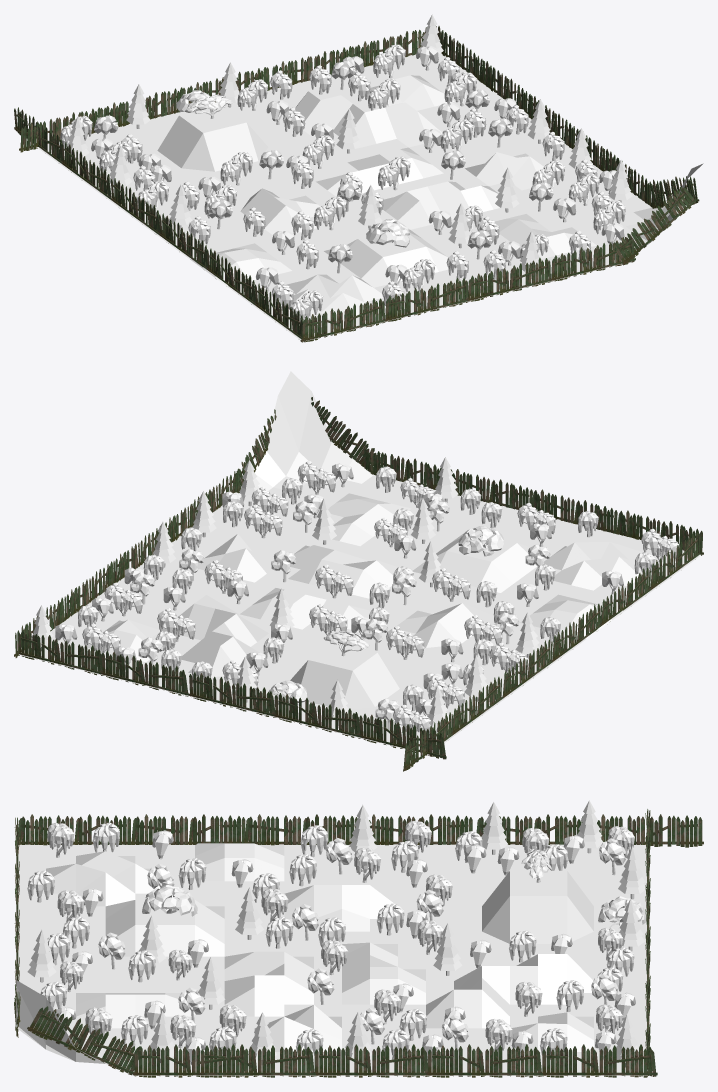
File: map.glb
3 renders of one model, top to bottom at view 1: azimuth 30°, elevation 25°; view 2: azimuth 150°, elevation 25°; view 3: azimuth 270°, elevation 25°, orthographic. The views are drawn at different scales.
Parts seen in each view (by area): view 1: Ground-col, Box006__0, Box006__0.001, Box006__0.003, Box006__0.020, Box006__0.002, Box006__0.010, Box006__0.008, Box006__0.007, Box006__0.014, Box006__0.005, Box006__0.004 (+39 smaller); view 2: Ground-col, Box006__0.011, Box006__0.014, Box006__0.010, Box006__0.015, Box006__0.013, Box006__0, Box006__0.003, Box006__0.002, Box006__0.001, Box006__0.020, Box006__0.005 (+33 smaller); view 3: Ground-col, Box006__0.017, Box006__0.018, Box006__0.012, Box006__0.019, Box006__0.016, Box006__0.007, Box006__0.021, Box006__0.004, Box006__0.009, Box006__0.006, Box006__0.005 (+74 smaller).
Boxes of the visible parts, x1,y1,x2,y2 form: Ground-col: (37, 53, 703, 341); Box006__0: (384, 277, 468, 321); Box006__0.001: (300, 298, 385, 342); Box006__0.003: (467, 257, 550, 301); Box006__0.020: (615, 186, 696, 265); Box006__0.002: (550, 237, 635, 281); Box006__0.010: (103, 87, 185, 126); Box006__0.008: (61, 142, 111, 199); Box006__0.007: (206, 248, 255, 304); Box006__0.014: (271, 46, 354, 89); Box006__0.005: (110, 178, 160, 234); Box006__0.004: (159, 213, 207, 269); Ground-col: (19, 371, 700, 754); Box006__0.011: (188, 672, 275, 717); Box006__0.014: (100, 650, 188, 696); Box006__0.010: (274, 693, 361, 738); Box006__0.015: (18, 630, 103, 675); Box006__0.013: (359, 713, 446, 759); Box006__0: (531, 489, 617, 533); Box006__0.003: (450, 469, 532, 509); Box006__0.002: (361, 448, 441, 489); Box006__0.001: (616, 510, 703, 555); Box006__0.020: (311, 397, 380, 471); Box006__0.005: (502, 639, 552, 698); Ground-col: (16, 843, 649, 1075); Box006__0.017: (540, 1044, 657, 1077); Box006__0.018: (426, 1044, 543, 1077); Box006__0.012: (313, 1044, 428, 1077); Box006__0.019: (27, 1006, 141, 1075); Box006__0.016: (199, 1044, 315, 1077); Box006__0.007: (131, 814, 245, 844); Box006__0.021: (132, 1044, 249, 1077); Box006__0.004: (244, 814, 357, 845); Box006__0.009: (597, 814, 703, 847); Box006__0.006: (16, 814, 131, 845); Box006__0.005: (369, 814, 472, 845).
Size of the model in its own units: 130 by 24.68 by 156.
3 materials, 1 textured.
